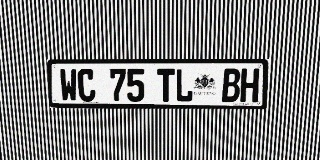5: (127, 69, 145, 102)
7: (109, 69, 127, 102)
B: (222, 69, 241, 102)
C: (77, 69, 96, 102)
H: (240, 69, 260, 102)
L: (175, 69, 193, 102)
T: (157, 69, 175, 102)
W: (59, 69, 78, 102)
